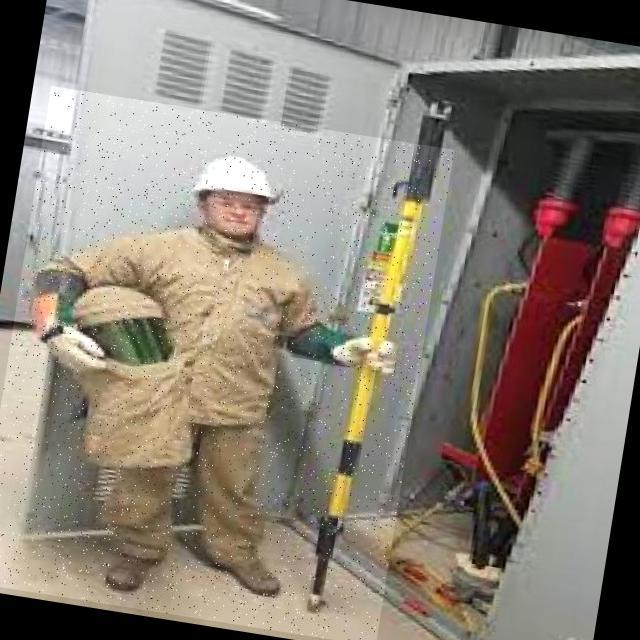Gloves: (284, 306, 410, 398), (33, 295, 118, 391)
Helmet: (188, 148, 287, 221)
Person: (23, 119, 419, 624)
Safety Boot: (97, 539, 176, 599), (213, 550, 294, 604)
no-vest: (40, 229, 338, 437)
